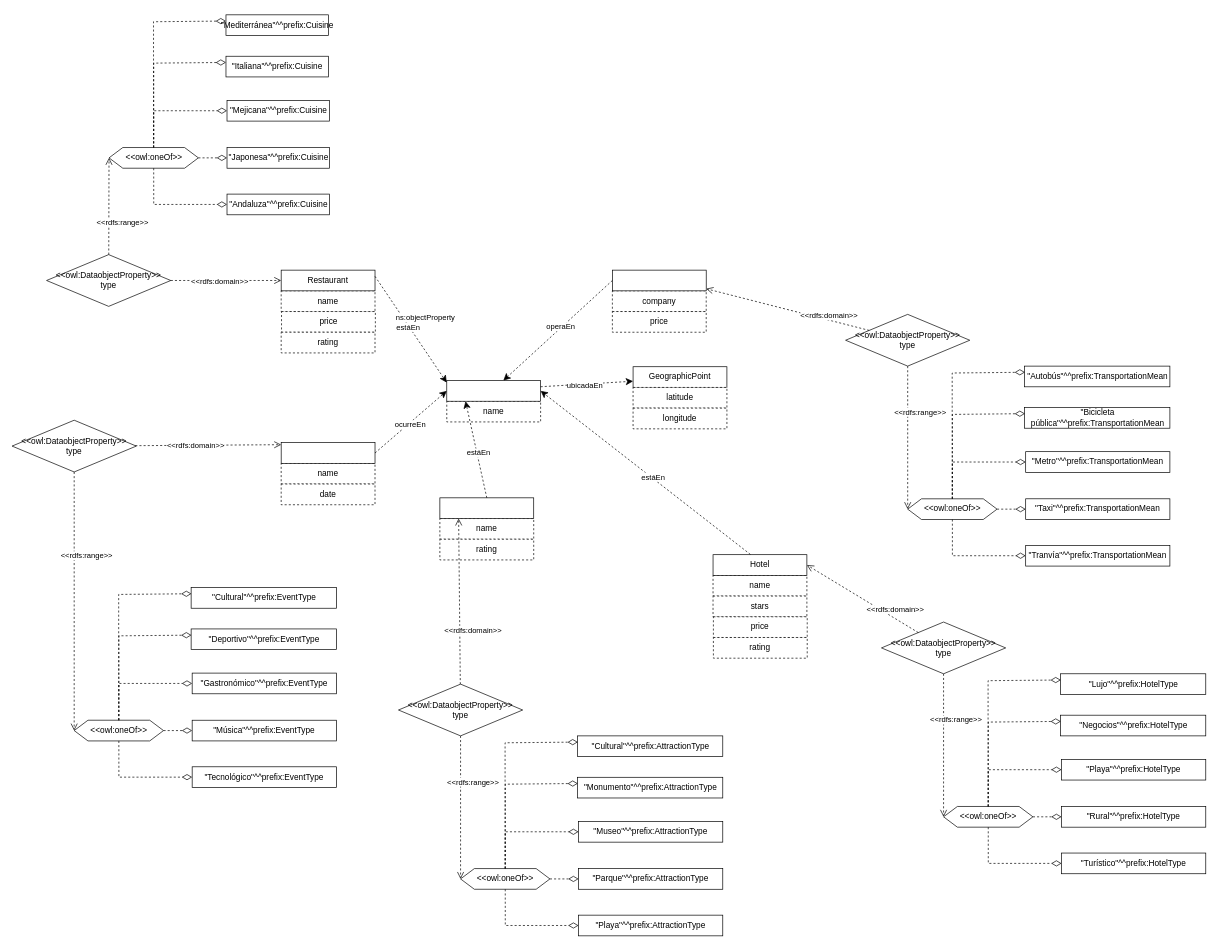
This 1218x948 diagram has some shape labels left out. The shapes that lost their labels are listed below. From the top down, each one's centre as x and y in pixels, then its label:
At pixel 659 280: "Transport".
At pixel 493 390: "City".
At pixel 327 452: "Event".
At pixel 486 508: "Attraction".
